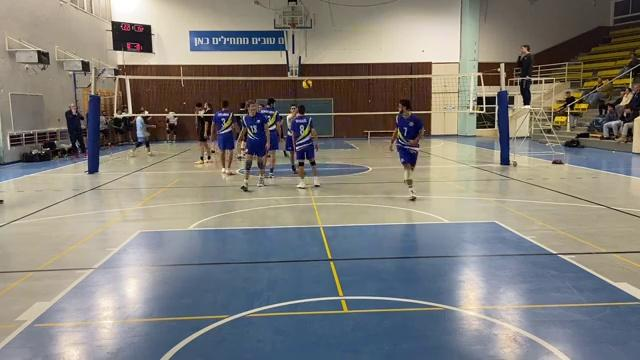ball: (303, 80, 314, 89)
